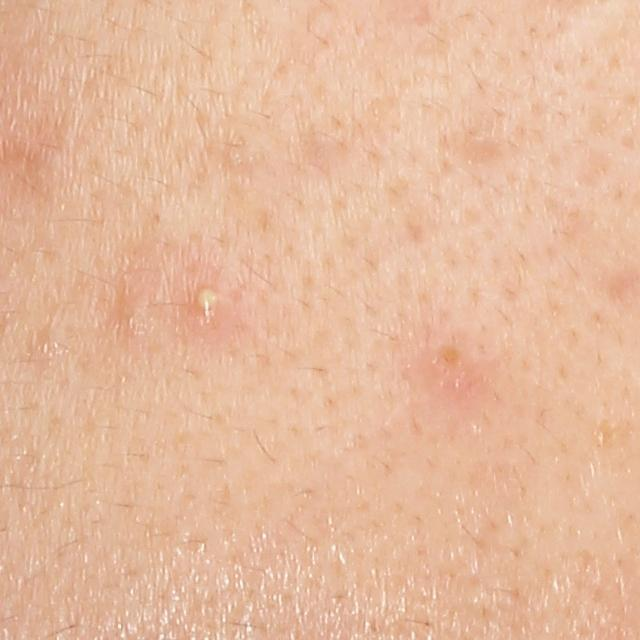pustule: (190, 284, 228, 319)
